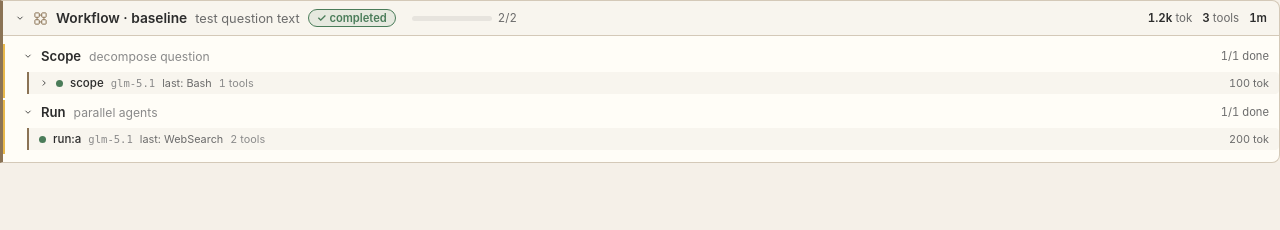
Test: WorkflowTree › expands an agent head to show its prompt/result previews
expect the text "decompose prompt" is not shown: met
What coordinates should you click on to do the following:
click the button "scope glm-5.1 last: Bash 1 tools 100 tok"
I would click on:
 (87, 83)
Its box is x1=29 y1=72 x2=1279 y2=94.
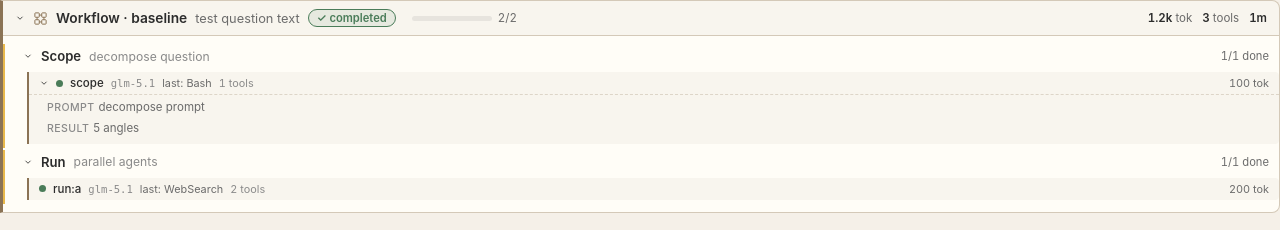
expect the text "decompose prompt" is shown: met, box x1=98 y1=100 x2=205 y2=114
expect the text "5 angles" is shown: met, box x1=93 y1=121 x2=139 y2=135
